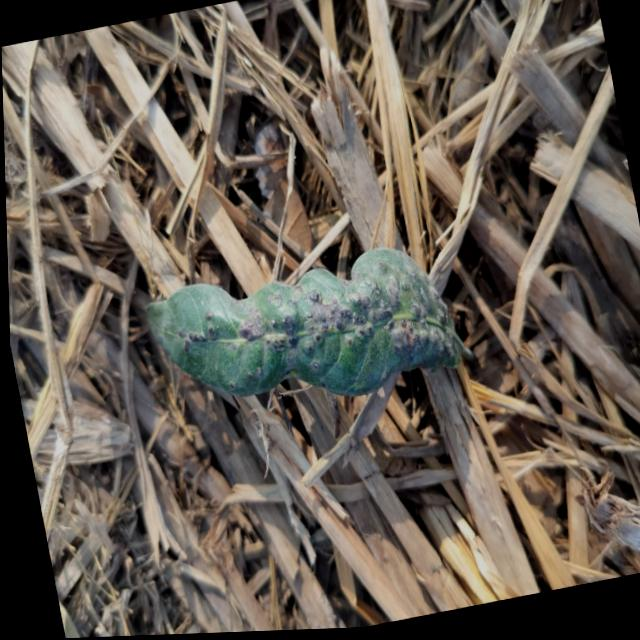gall midge: (254, 262, 433, 383)
